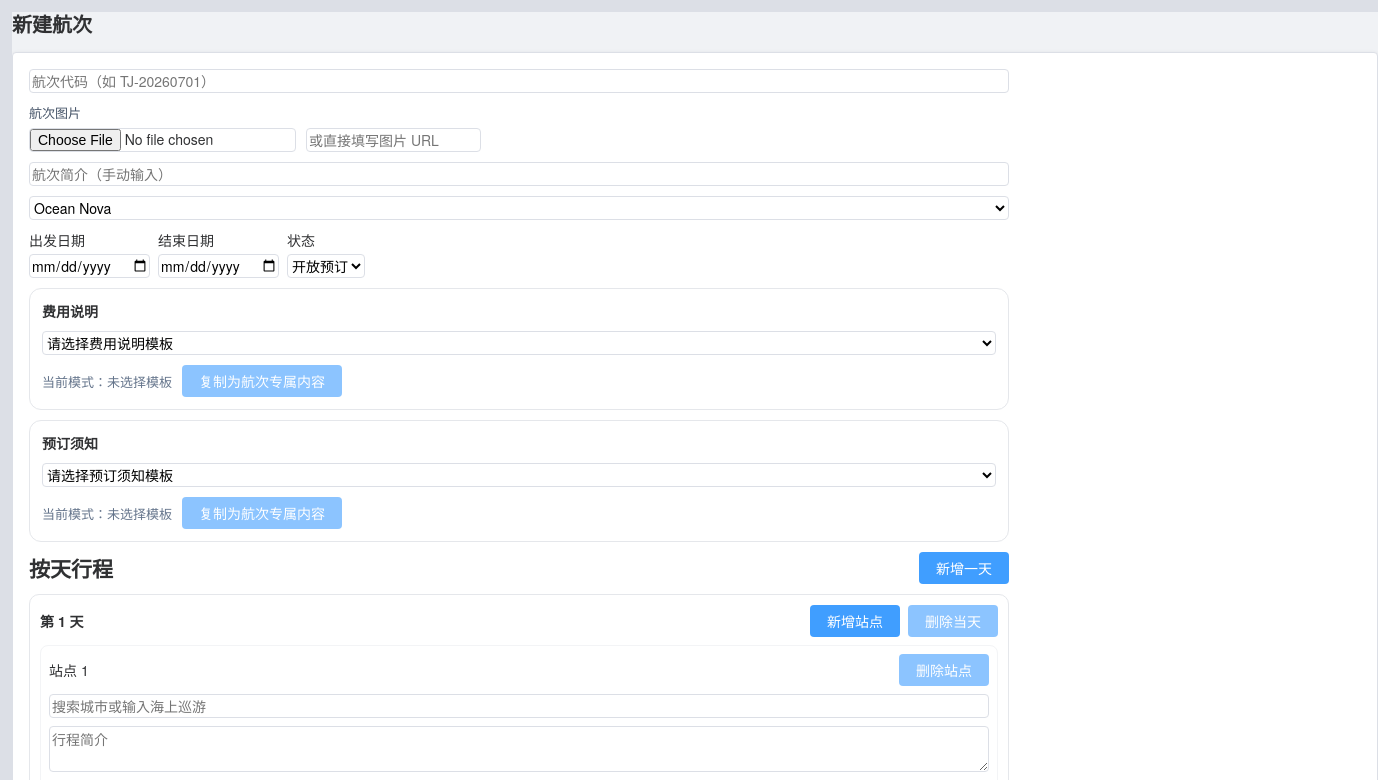
Scenario: VoyagesNewPage › 输入首字时就会发起城市搜索并显示结果
Type "布" into the field with test id "itinerary-city-1-1-input" at point(519, 706), box [49,694,989,718]
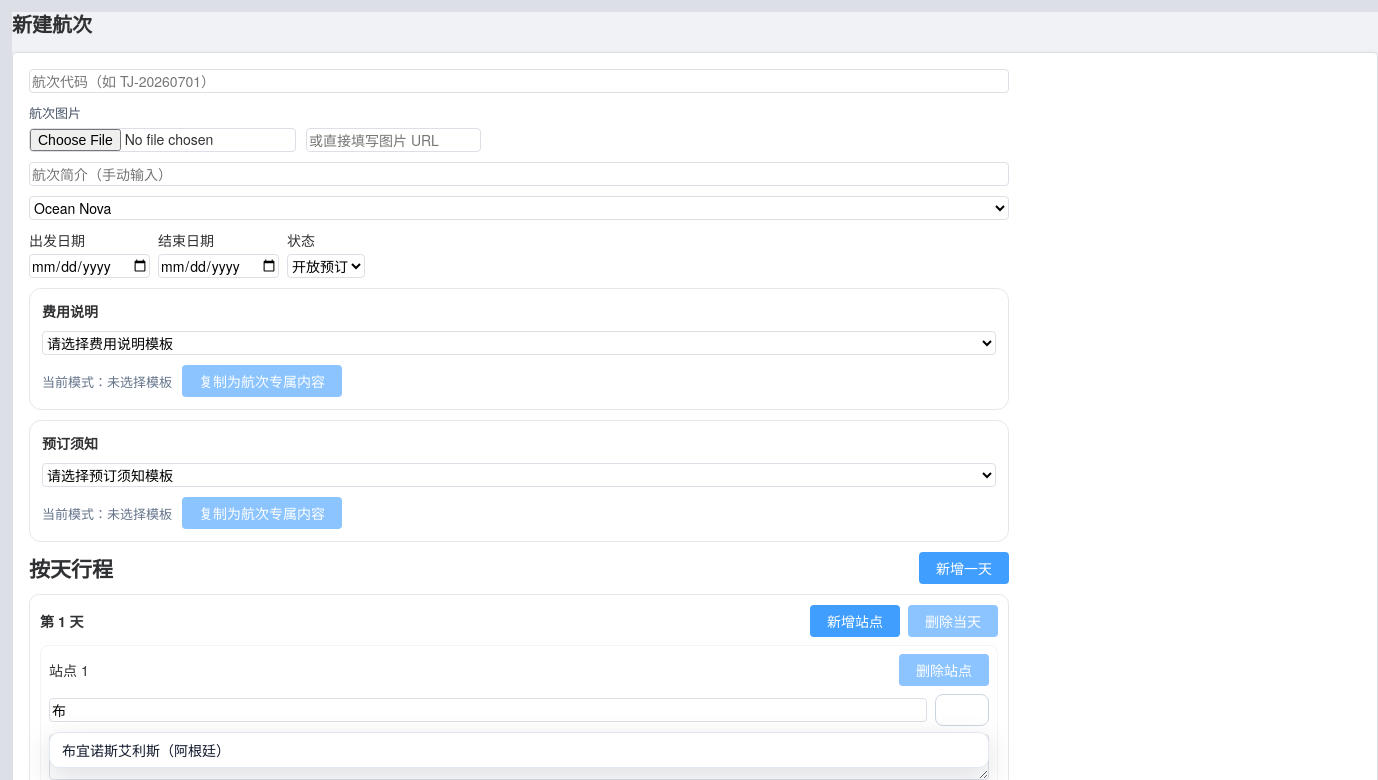
Expected: the button with test id "itinerary-city-1-1-option-0" reads "布宜诺斯艾利斯（阿根廷）", [50,733,988,767]
